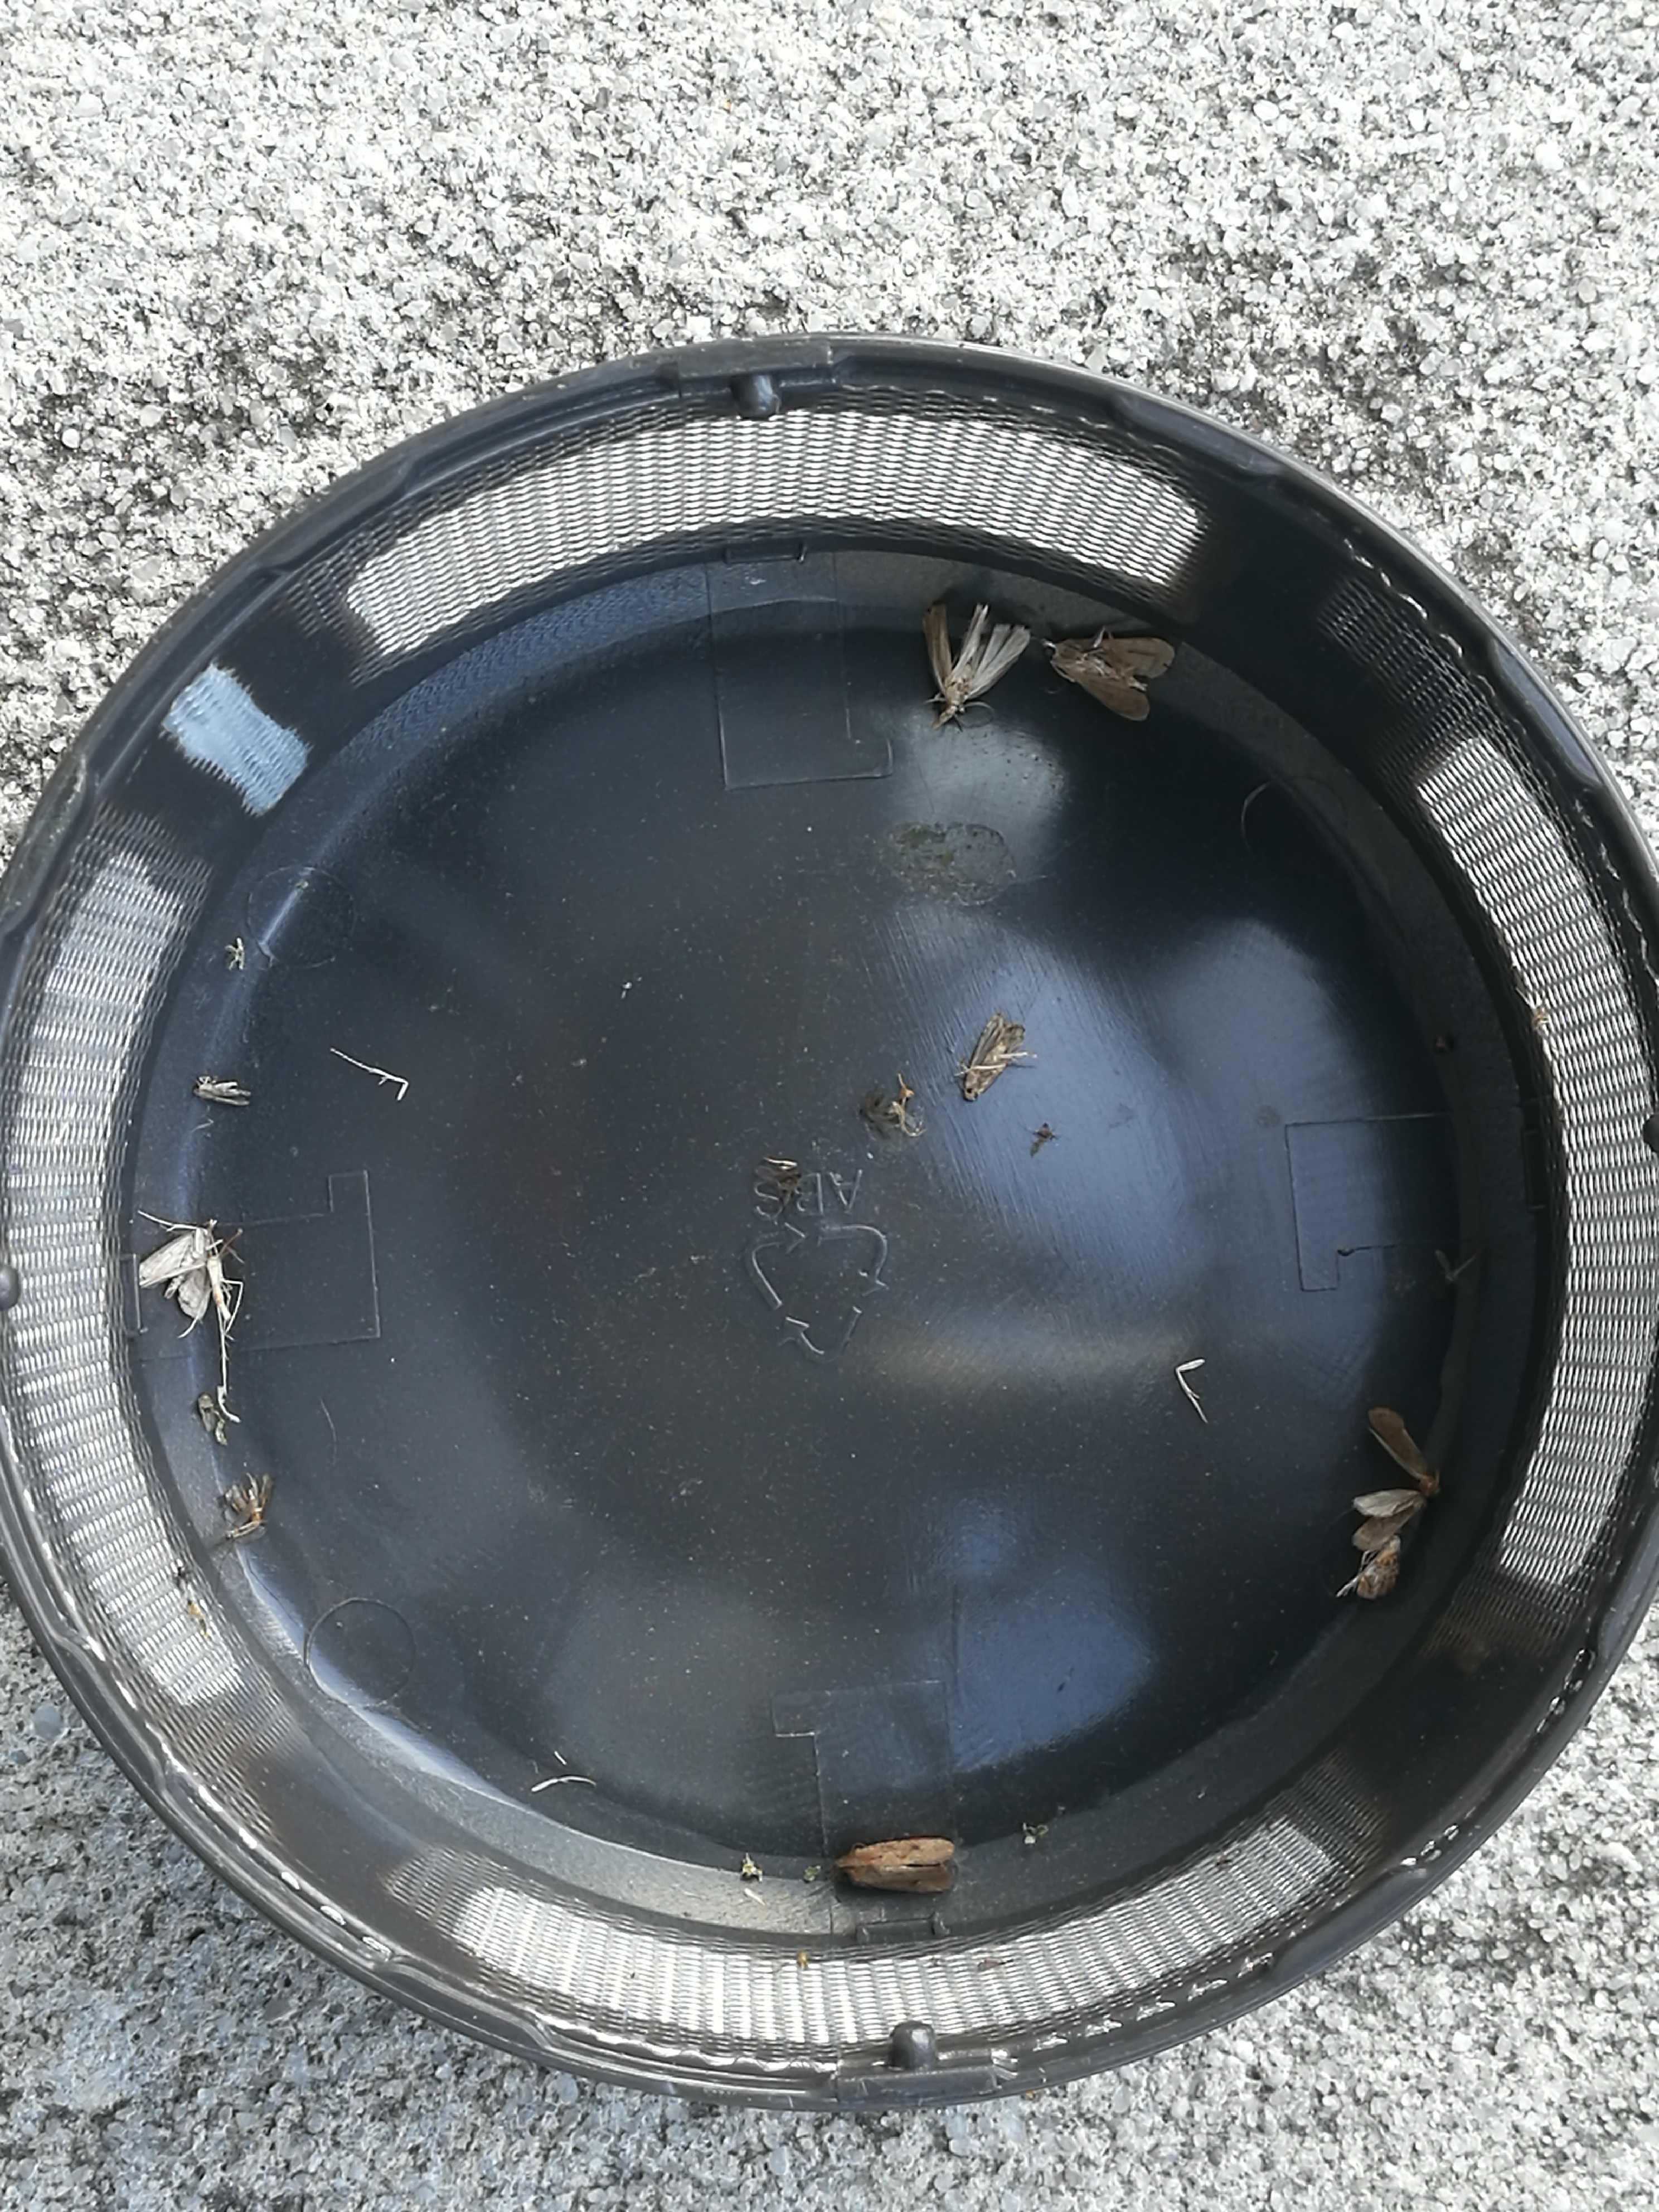mosquito: (193, 1078, 251, 1104)
moth: (1349, 1407, 1438, 1552), (924, 606, 1030, 725), (1042, 637, 1175, 721), (138, 1224, 214, 1322), (840, 1839, 953, 1890), (964, 1014, 1026, 1099), (1356, 1533, 1401, 1599)
